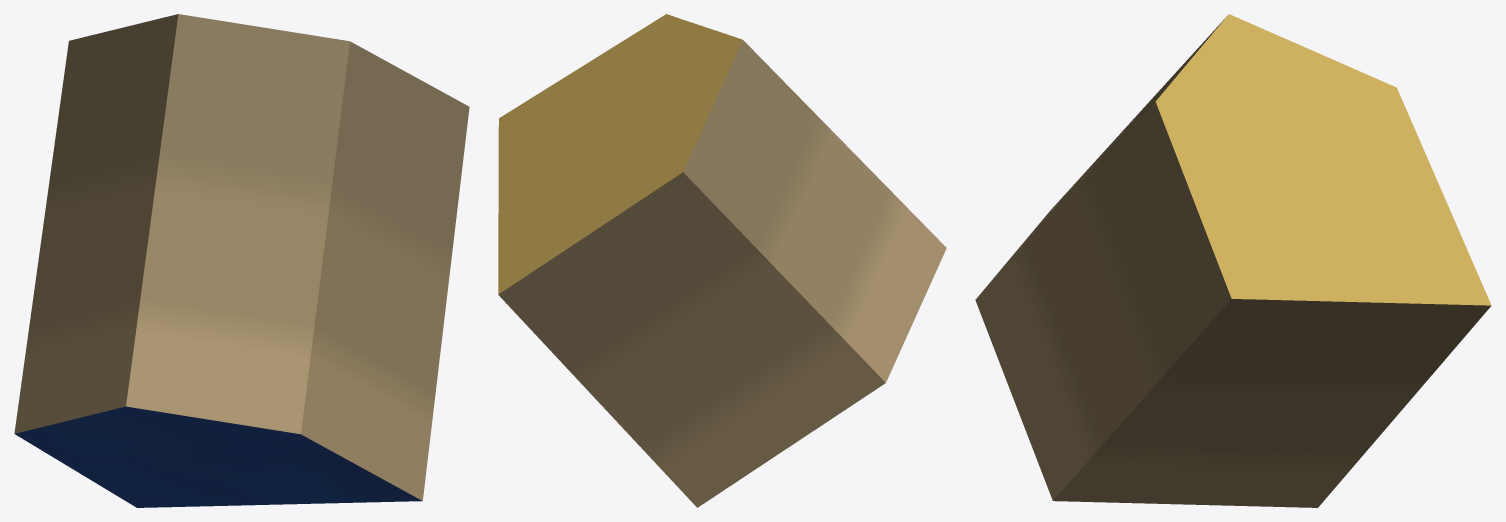
The model's file is 0668_Lesotho.glb.
3 views of the same model, side by side, from view 1: azimuth 30°, elevation 25°; view 2: azimuth 150°, elevation 25°; view 3: azimuth 270°, elevation 25° (orthographic). The views are drawn at different scales.
Parts seen in each view (by area): view 1: part_0; view 2: part_0; view 3: part_0.
Part boxes in pixels (left/top/right/bottom): part_0: left=14, top=14, right=469, bottom=507; part_0: left=498, top=14, right=946, bottom=507; part_0: left=975, top=14, right=1491, bottom=507.
Bounding box in the file's own units: 0.2611 × 0.2874 × 0.2739.
Materials: 1 (1 with a texture image).
